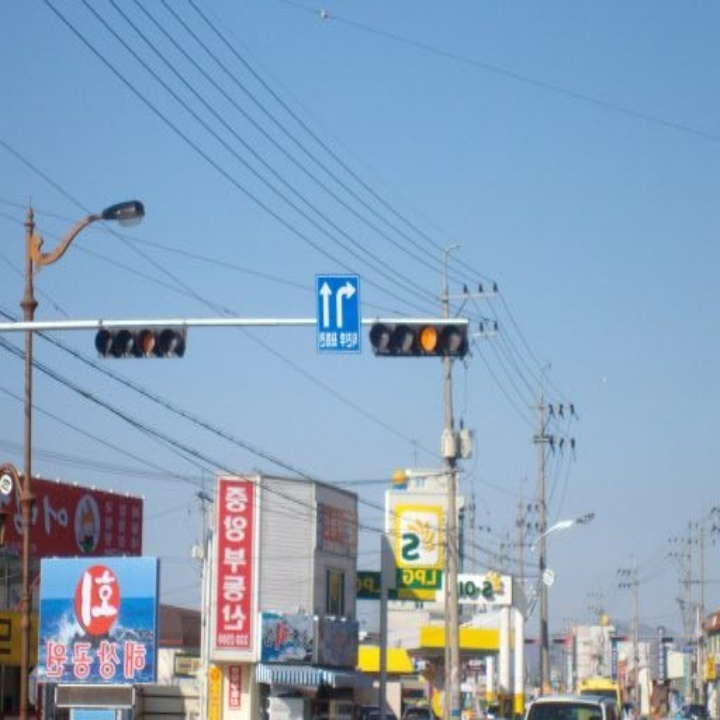right: (333, 276, 359, 329)
